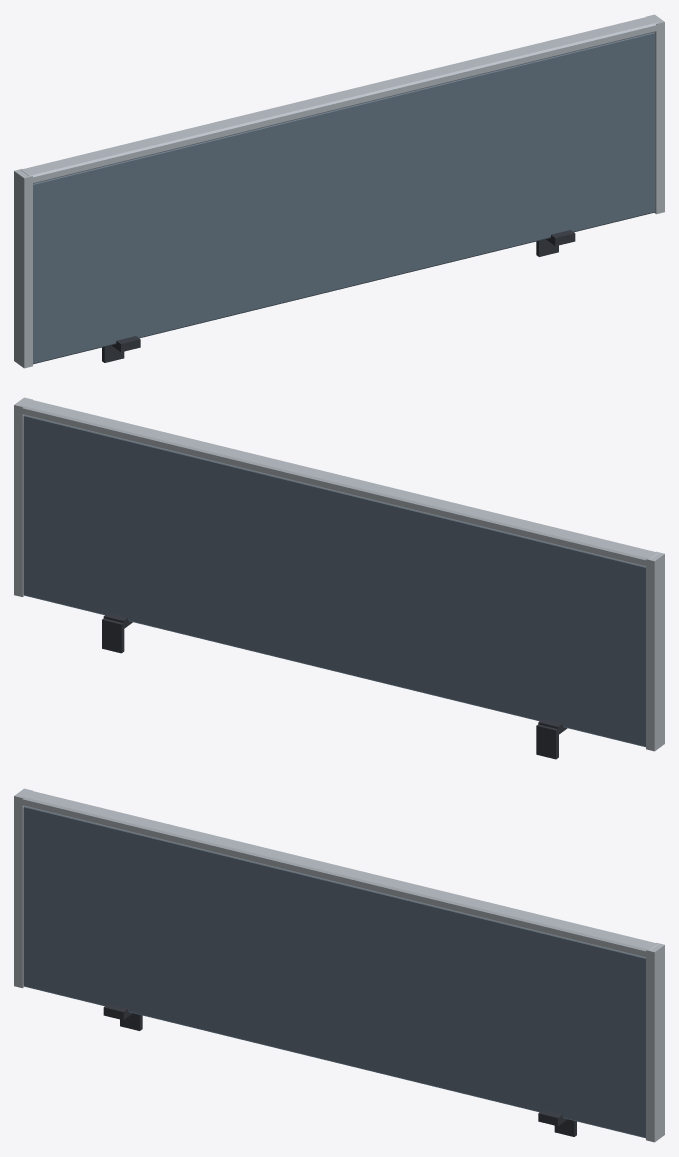
Rendered from cubicle_divider.glb.
3 renders of one model, top to bottom at view 1: azimuth 30°, elevation 25°; view 2: azimuth 150°, elevation 25°; view 3: azimuth 330°, elevation 25°, orthographic.
Visible parts, largest first — view 1: CubicleDivider; view 2: CubicleDivider; view 3: CubicleDivider.
Boxes of the visible parts, x1,y1,x2,y2 form: CubicleDivider: (14,14,664,368); CubicleDivider: (14,397,664,759); CubicleDivider: (14,788,664,1142).
Bounding box in the file's own units: 1.62 × 0.526 × 0.0835.
